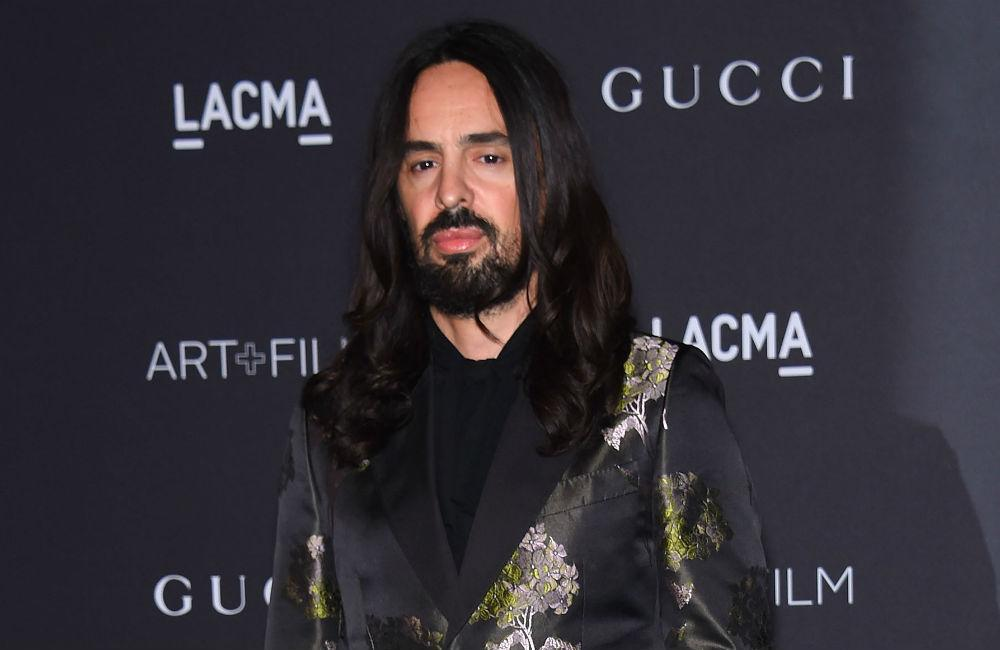GUCCI: (602, 53, 854, 116), (153, 574, 278, 616)
